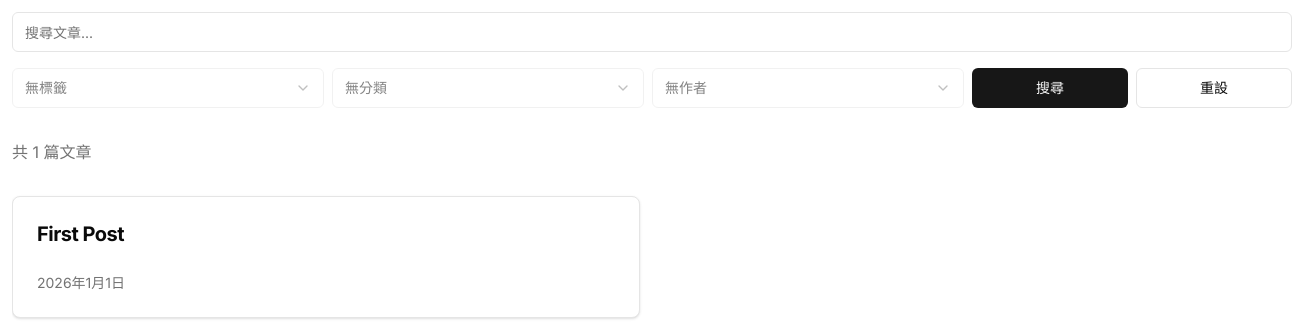
PostsClient › restores the initial posts and clears the search box on reset, with no fetch
In the field with placeholder "搜尋文章...": (652, 32) [12,12,1292,52], type "hello"
Then press Enter
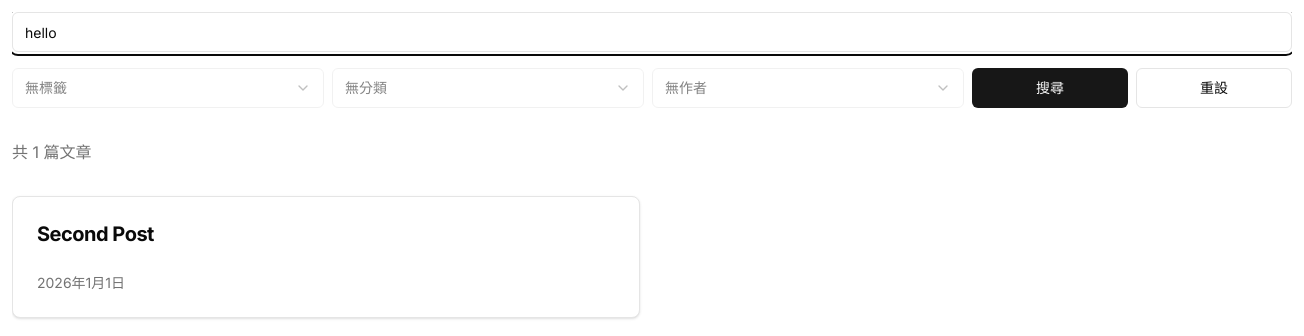
Expected: the link "Second Post 2026年1月1日" is shown, [12,196,640,318]
Click the button "重設": (1214, 88) [1136,68,1292,108]
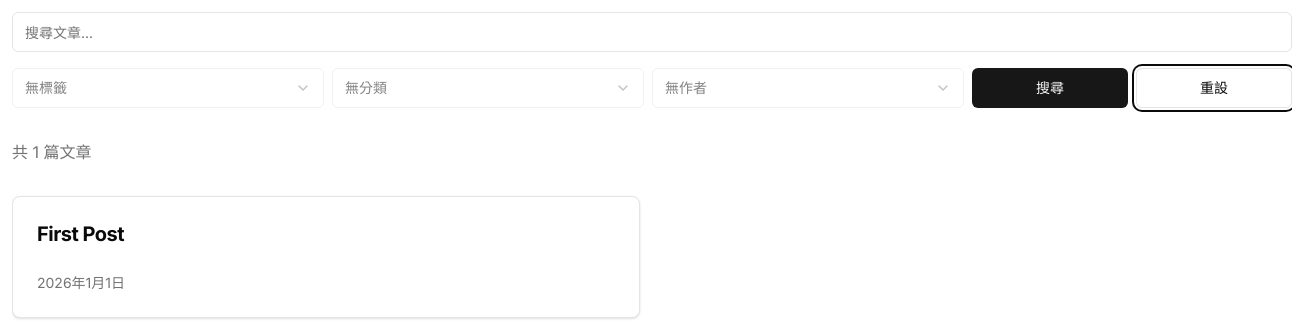
Expected: the link "First Post 2026年1月1日" is shown, [12,196,640,318]
Expected: the field with placeholder "搜尋文章..." is empty, [12,12,1292,52]
